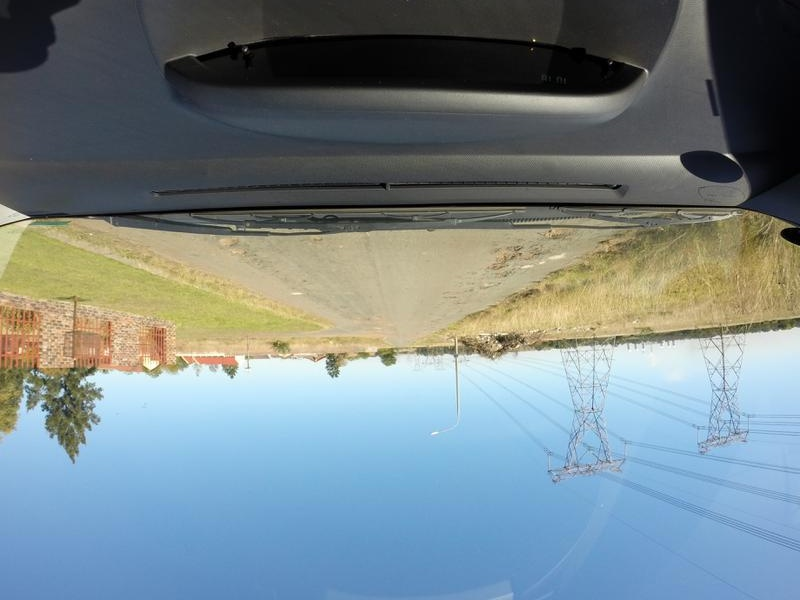pothole: (497, 251, 516, 271), (543, 227, 572, 237), (533, 241, 547, 260), (219, 235, 236, 245), (490, 246, 519, 251), (224, 247, 245, 252), (477, 283, 494, 288), (442, 295, 458, 300), (303, 236, 323, 240)
